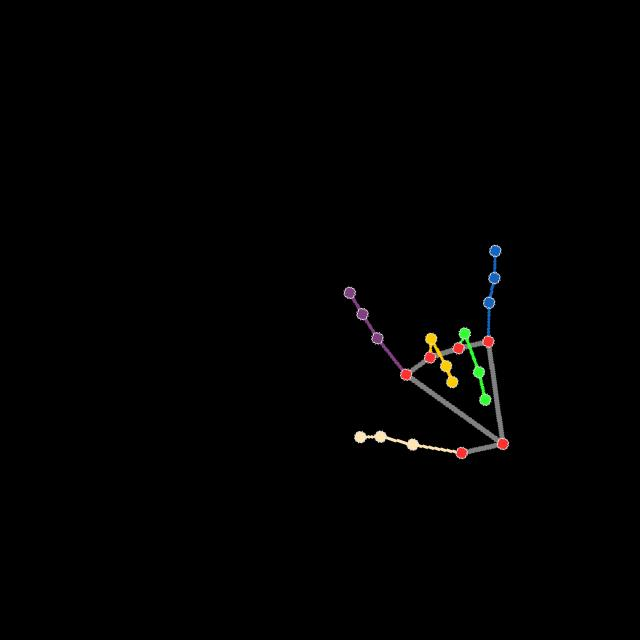spiderman: (340, 240, 511, 464)
